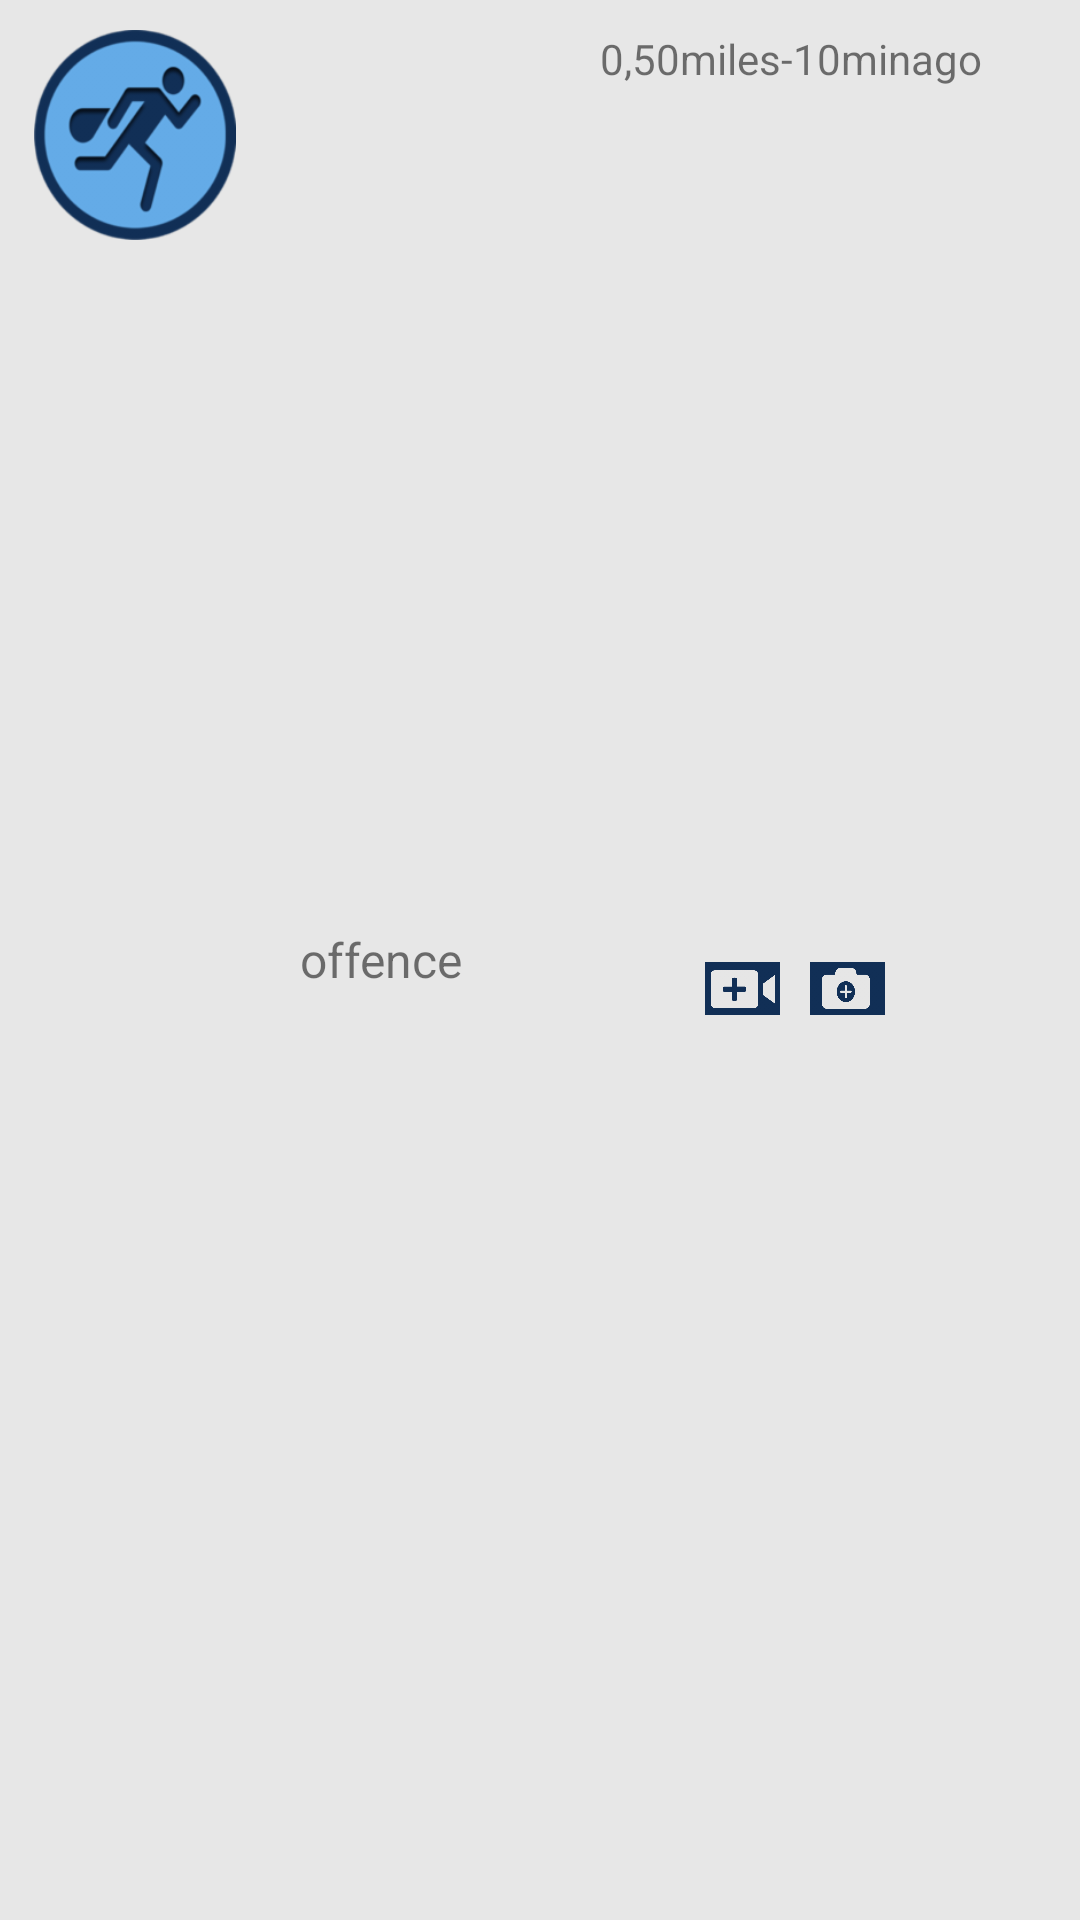

Locate icon controls on the screen. Image size 1080 × 1920, boxes as BBox(x1, y1, x2, y2).
camera: BBox(810, 962, 885, 1015)
offence: BBox(34, 30, 236, 240)
vedio: BBox(705, 962, 780, 1015)
